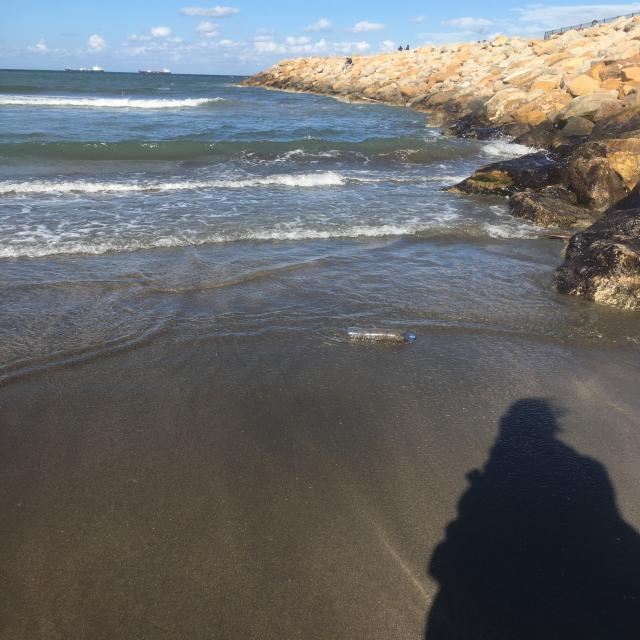Plastic bottle: (345, 324, 419, 344)
